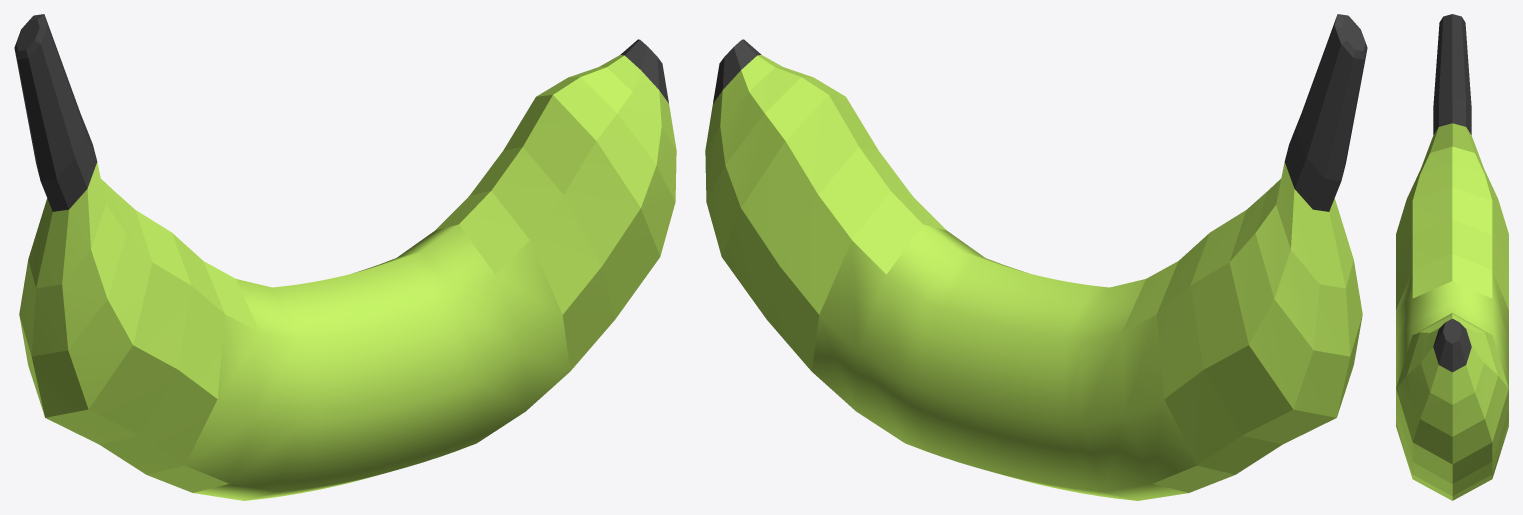
The model's file is banana.glb.
The picture shows the model from 3 angles, left to right: view 1: azimuth 30°, elevation 25°; view 2: azimuth 150°, elevation 25°; view 3: azimuth 270°, elevation 25°; orthographic projection. The views are drawn at different scales.
Visible parts, largest first — view 1: Cylinder001, Object001; view 2: Cylinder001, Object001; view 3: Cylinder001, Object001.
Boxes of the visible parts, x1,y1,x2,y2 form: Cylinder001: (19, 55, 676, 500); Object001: (14, 14, 668, 211); Cylinder001: (705, 55, 1362, 500); Object001: (713, 14, 1367, 211); Cylinder001: (1396, 123, 1508, 500); Object001: (1433, 14, 1471, 372).
Bounding box in the file's own units: 0.0223 × 0.0178 × 0.00506.
